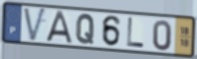0: (151, 18, 173, 53)
6: (101, 14, 122, 48)
A: (45, 10, 73, 44)
L: (126, 17, 146, 50)
Q: (75, 13, 96, 46)
V: (22, 7, 47, 44)
